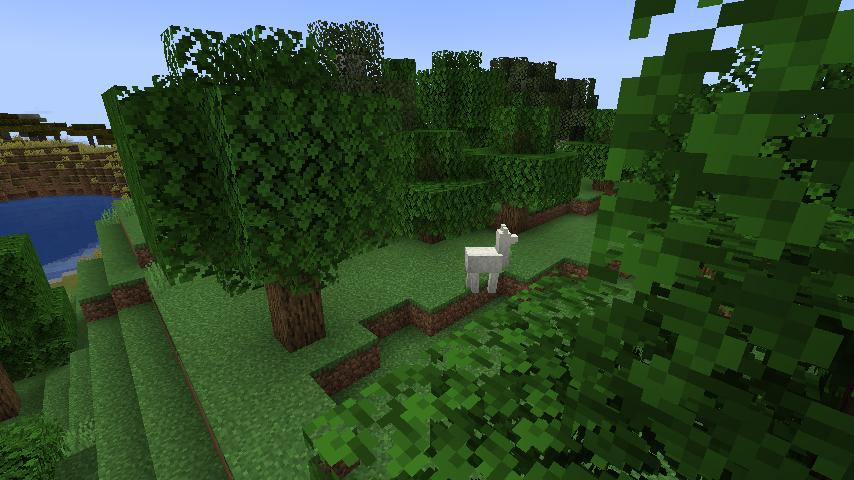llama: (463, 223, 521, 293)
